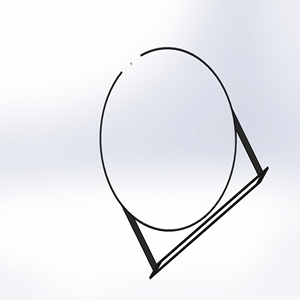circle: (96, 44, 270, 278)
